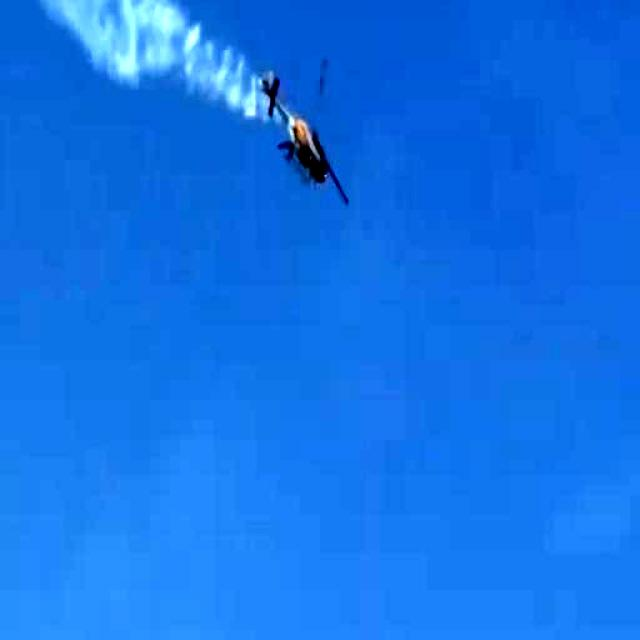drone: (264, 58, 351, 215)
